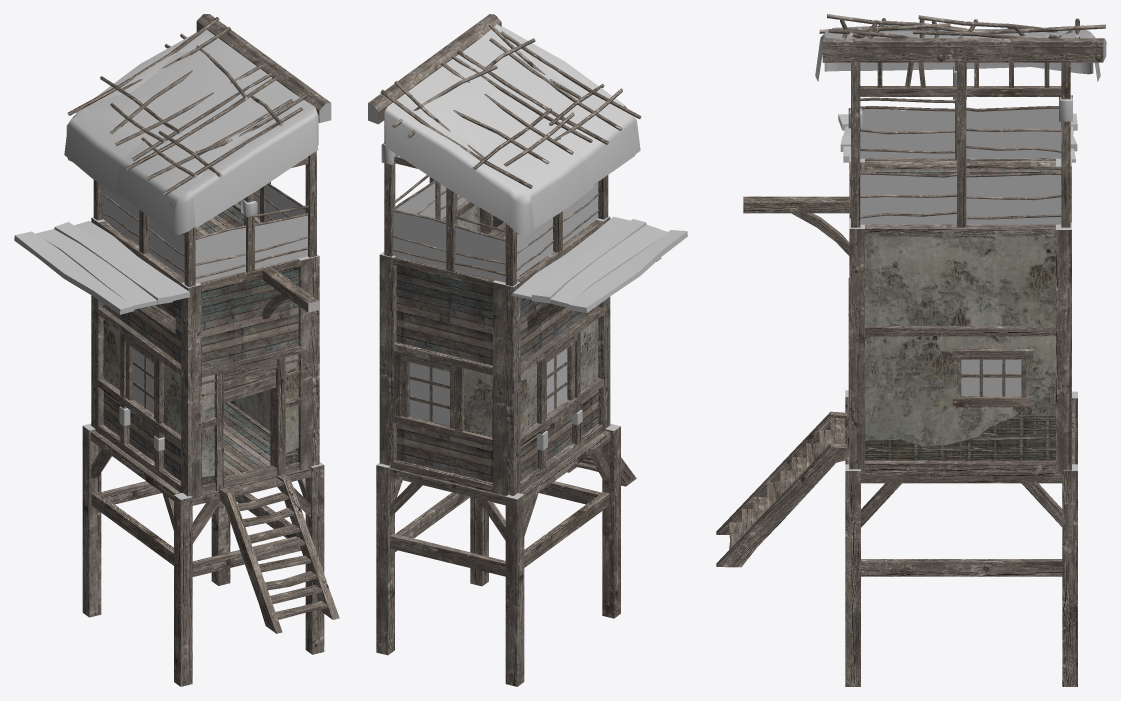
The model's file is Tower2.fbx.
3 views of the same model, side by side, from view 1: azimuth 30°, elevation 25°; view 2: azimuth 150°, elevation 25°; view 3: azimuth 270°, elevation 25° (orthographic). The views are drawn at different scales.
Parts seen in each view (by area): view 1: Base, Stairs; view 2: Base, Stairs; view 3: Base, Stairs.
Boxes of the visible parts, x1=… form: Base: x1=14, y1=14, x2=331, y2=686; Stairs: x1=219, y1=474, x2=339, y2=633; Base: x1=368, y1=14, x2=687, y2=686; Stairs: x1=567, y1=446, x2=636, y2=486; Base: x1=743, y1=14, x2=1106, y2=686; Stairs: x1=716, y1=411, x2=847, y2=567.
Size of the model in its own units: 5.35 by 13.61 by 7.41.
